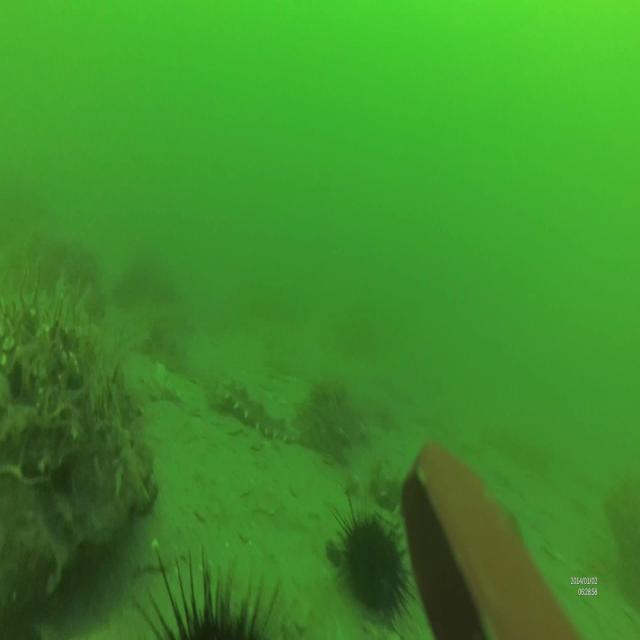echinus: (130, 554, 282, 639), (331, 493, 417, 625)
holothurian: (213, 378, 299, 450)
